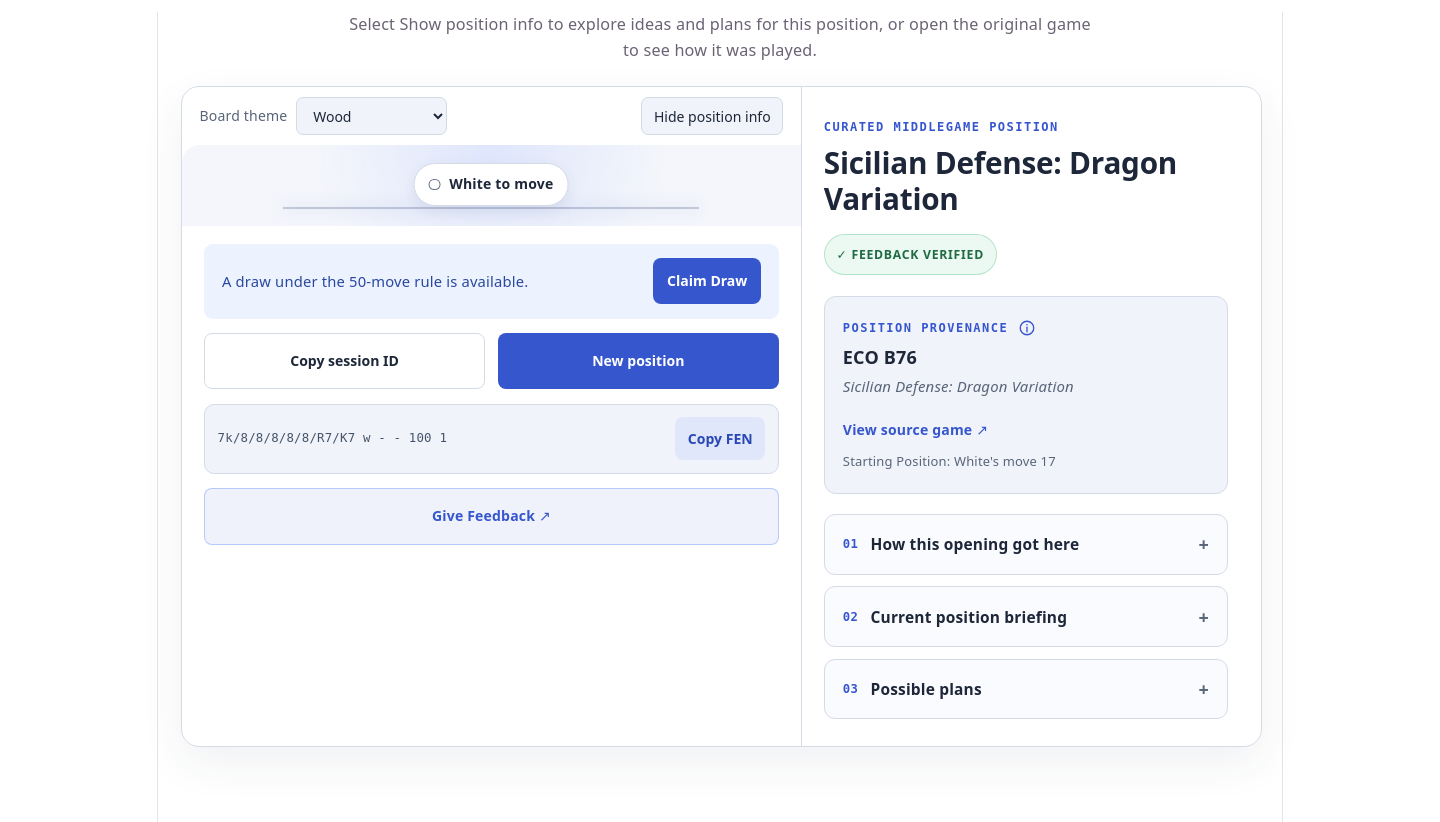
claims a draw advertised by the backend
The image size is (1440, 822).
Click the button "Claim Draw": [707, 281] box [654, 258, 761, 304]
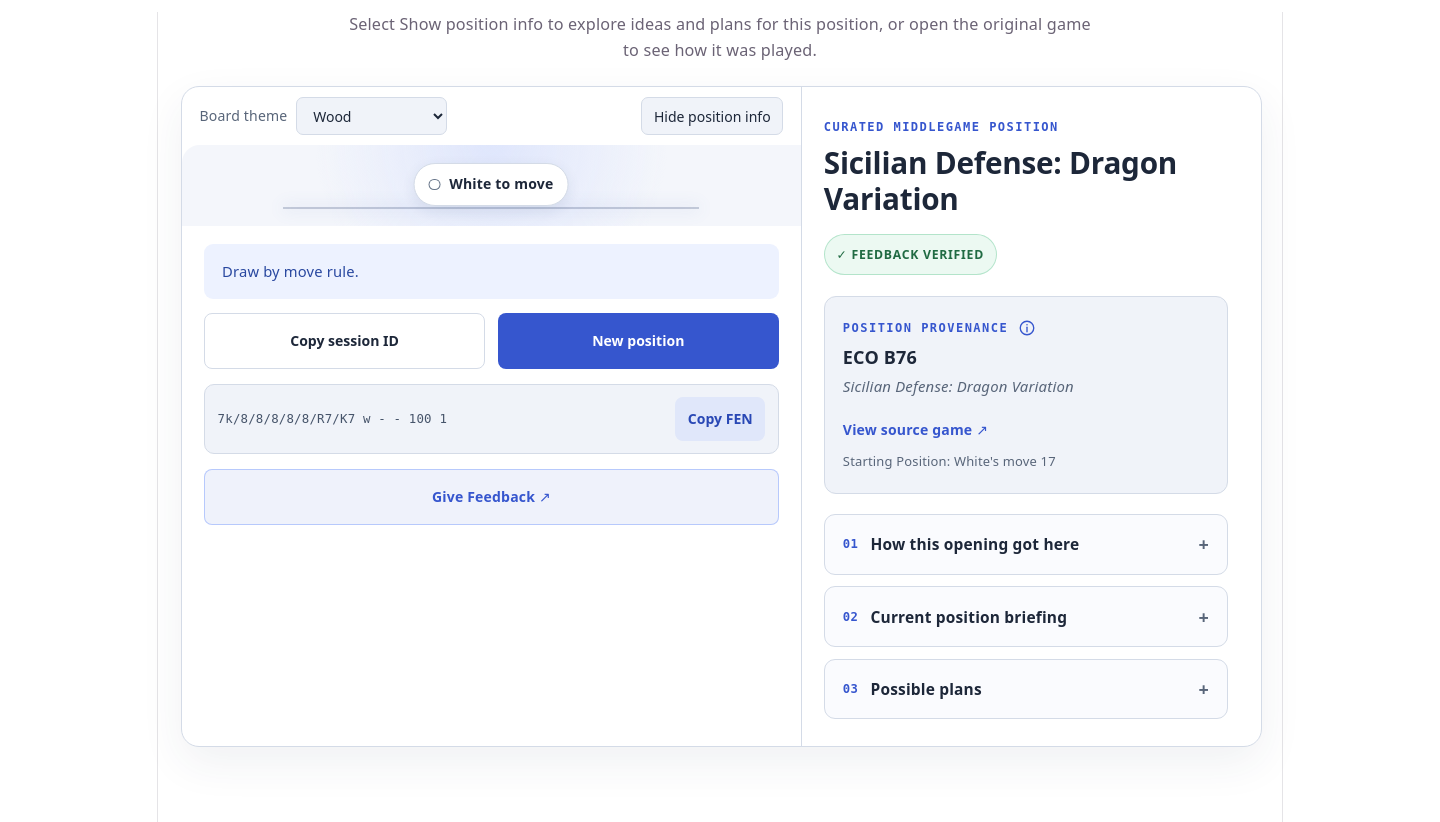
Now the text "Draw by move rule." is shown, box [222, 258, 359, 284]
